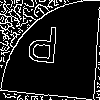P: (24, 25, 60, 74)
